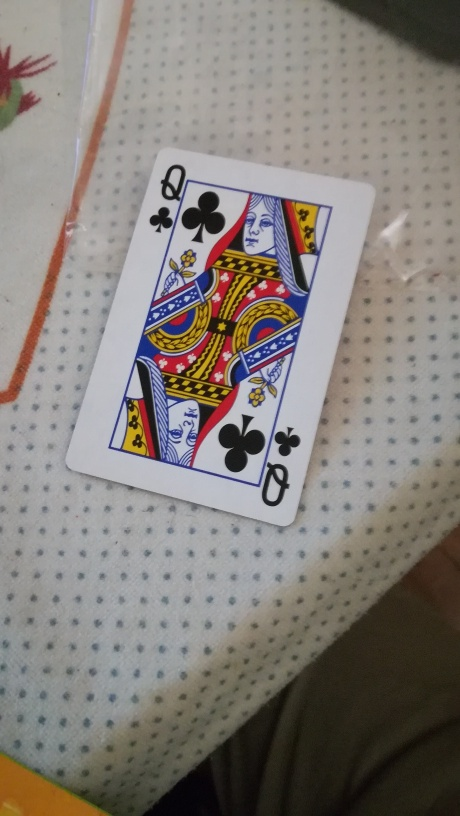mh q: (65, 144, 375, 529)
